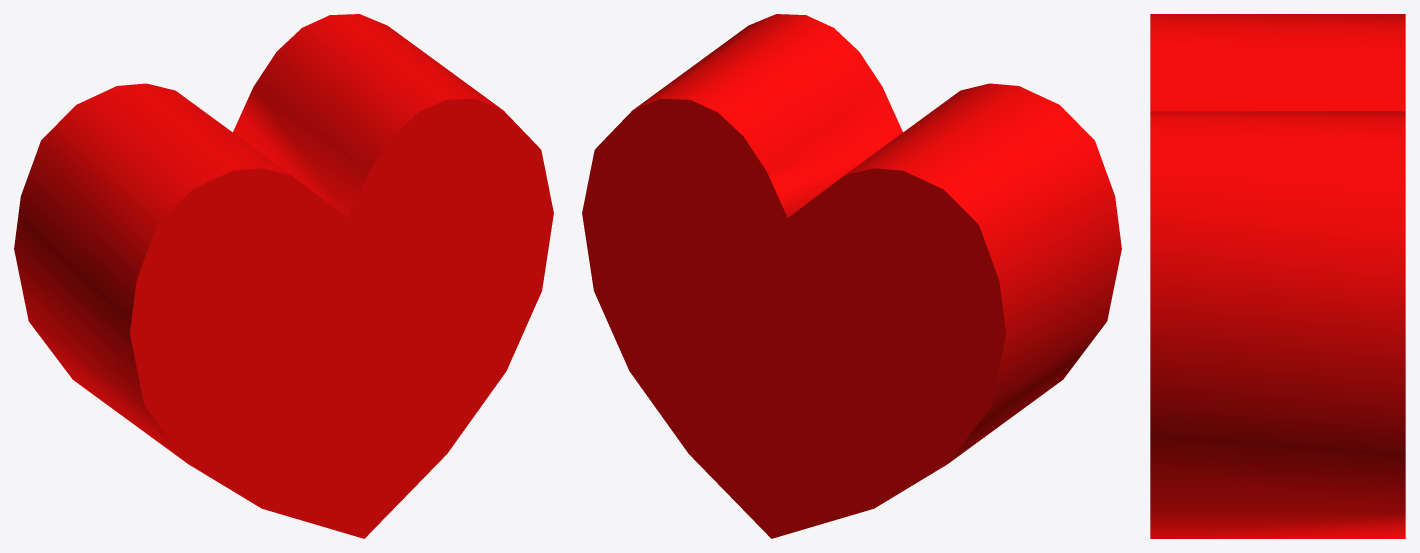
File: heart.obj
3 views of the same model, side by side, from view 1: azimuth 30°, elevation 25°; view 2: azimuth 150°, elevation 25°; view 3: azimuth 270°, elevation 25° (orthographic). The views are drawn at different scales.
Parts seen in each view (by area): view 1: font3d/heart1.obj, font3d/heart2.obj; view 2: font3d/heart1.obj, font3d/heart2.obj; view 3: font3d/heart2.obj.
Boxes of the visible parts, x1,y1,x2,y2 form: font3d/heart1.obj: (130, 98, 553, 538); font3d/heart2.obj: (14, 14, 502, 463); font3d/heart1.obj: (582, 98, 1005, 538); font3d/heart2.obj: (633, 14, 1121, 463); font3d/heart2.obj: (1150, 14, 1405, 538).
Bounding box in the file's own units: 29.08 × 27.47 × 13.75.
